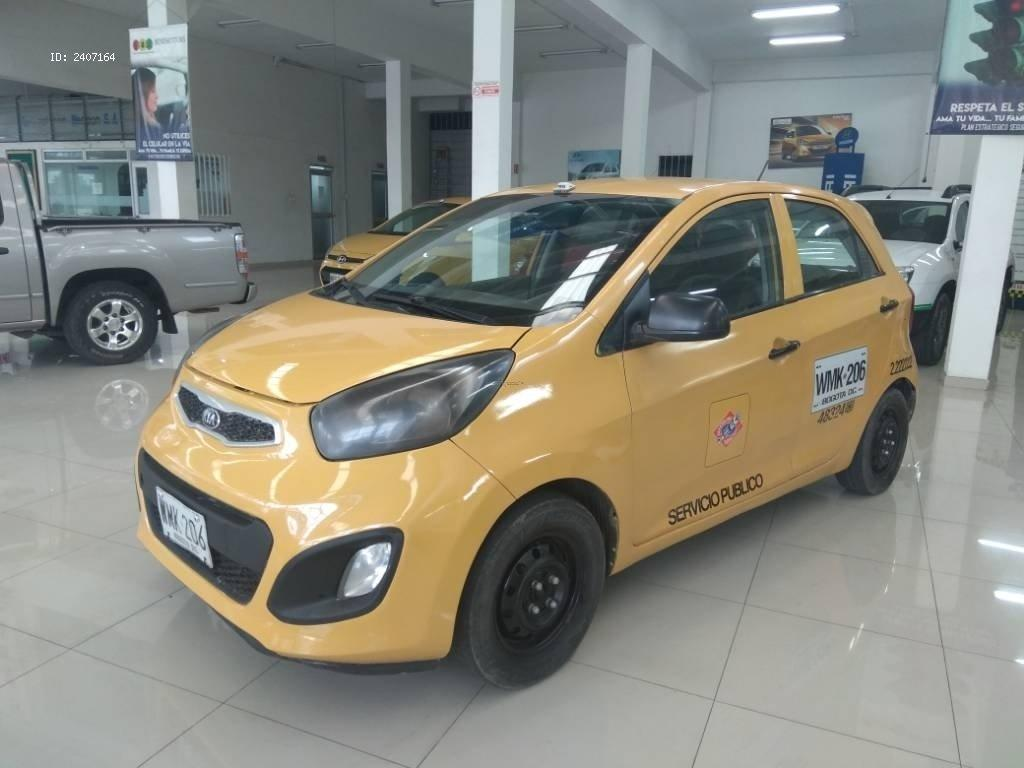taxi: (130, 177, 927, 675)
